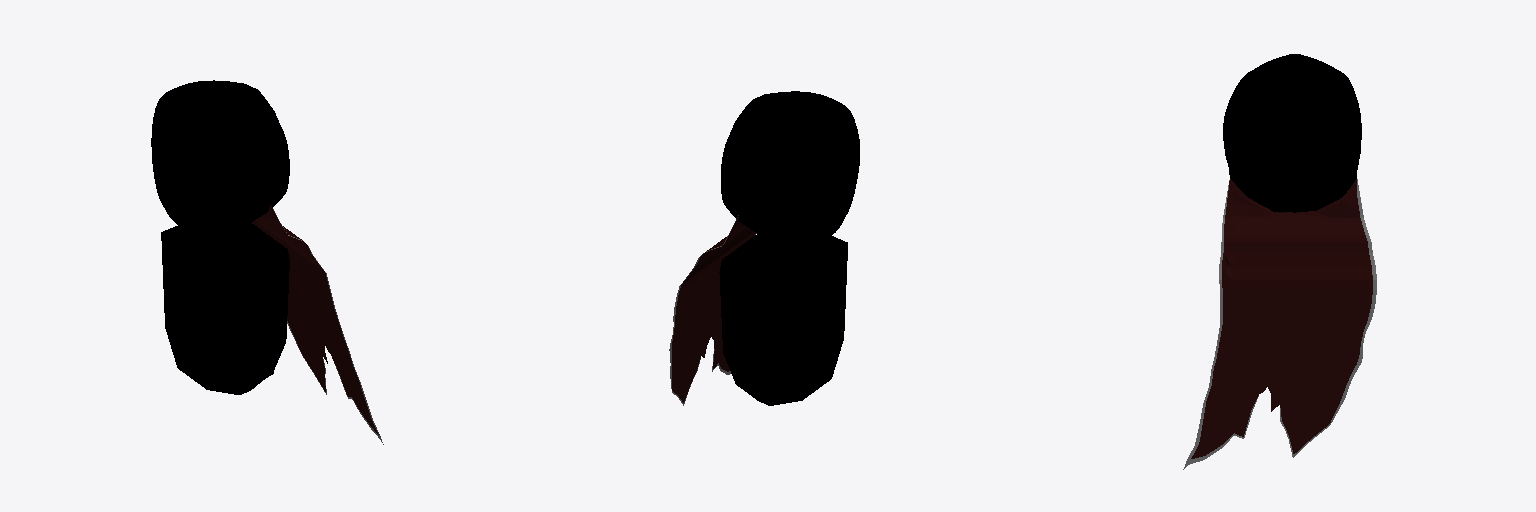
File: MainCharacter.obj
3 views of the same model, side by side, from view 1: azimuth 30°, elevation 25°; view 2: azimuth 150°, elevation 25°; view 3: azimuth 270°, elevation 25° (orthographic).
Parts seen in each view (by area): view 1: Character Hood, Character Body, Head Character; view 2: Character Hood, Character Body, Head Character; view 3: Character Hood.
Boxes of the visible parts, x1=… form: Character Hood: x1=151, y1=80, x2=383, y2=444; Character Body: x1=161, y1=223, x2=289, y2=394; Head Character: x1=159, y1=106, x2=215, y2=224; Character Hood: x1=669, y1=91, x2=859, y2=405; Character Body: x1=719, y1=234, x2=847, y2=405; Head Character: x1=796, y1=114, x2=852, y2=233; Character Hood: x1=1183, y1=54, x2=1376, y2=469.
Size of the model in its own units: 1.67 by 3.49 by 1.75.